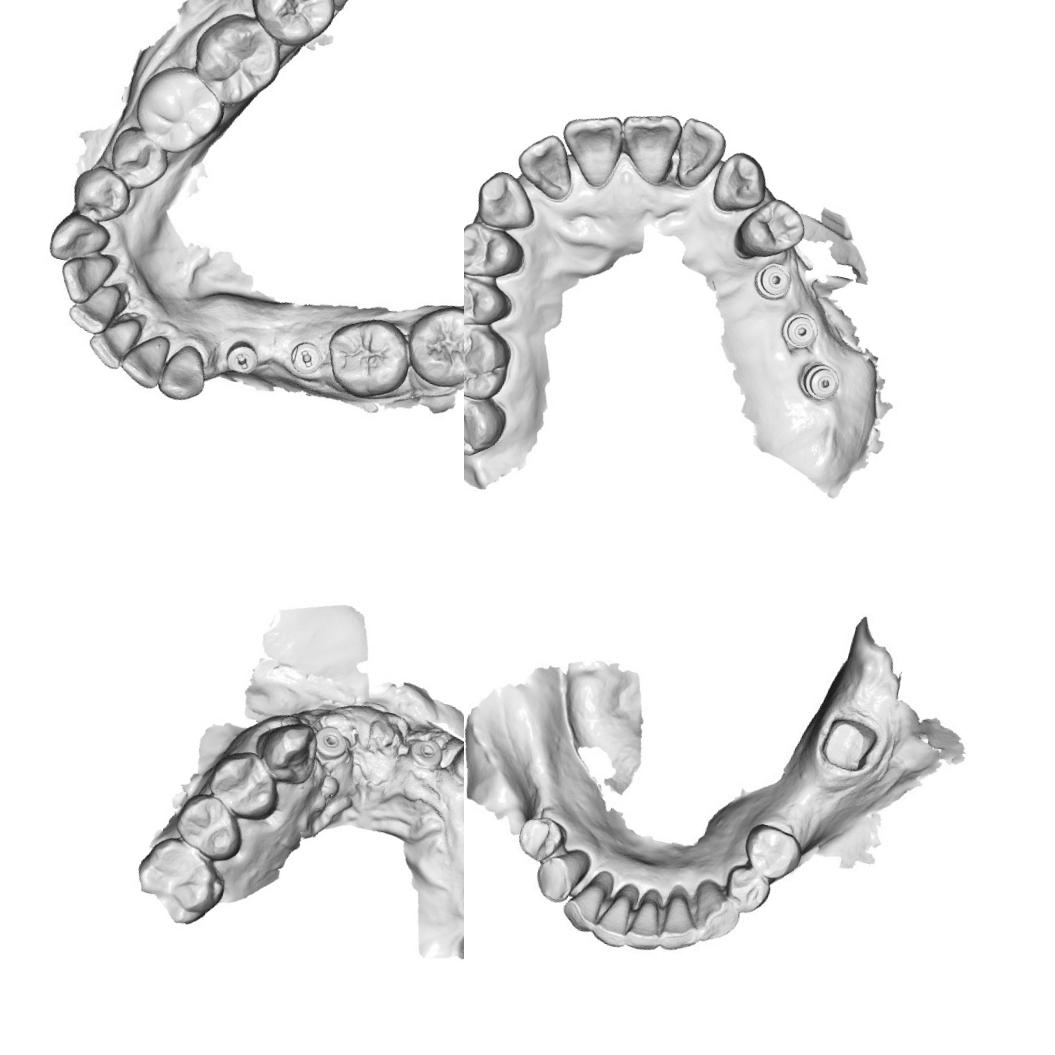canine: (250, 714, 324, 788), (470, 166, 544, 236), (682, 872, 747, 949), (42, 208, 117, 274), (708, 146, 774, 219), (529, 840, 593, 910), (154, 337, 212, 407)
crown: (814, 704, 885, 778)
implant: (796, 358, 844, 405), (776, 306, 823, 354), (749, 258, 796, 306), (408, 732, 448, 773), (314, 724, 352, 762)
implant_minus: (221, 329, 265, 380), (283, 333, 322, 380)
incisor: (550, 105, 630, 192), (609, 104, 686, 190), (509, 127, 582, 204), (666, 115, 731, 196), (618, 882, 674, 960), (586, 874, 642, 952), (62, 274, 126, 342), (557, 867, 614, 937), (55, 247, 116, 309), (116, 327, 172, 392), (85, 314, 141, 374), (657, 894, 706, 958), (448, 719, 464, 790)
molar: (179, 2, 290, 113), (127, 59, 232, 165), (128, 830, 233, 934), (322, 311, 419, 405), (405, 303, 464, 396), (242, 0, 343, 53), (464, 314, 517, 405), (464, 385, 511, 464)
premolar: (202, 744, 288, 827), (729, 190, 811, 272), (167, 786, 253, 864), (101, 123, 174, 195), (734, 815, 807, 886), (64, 160, 136, 230), (464, 216, 530, 286), (510, 805, 572, 864), (464, 269, 517, 334), (718, 863, 777, 918)
